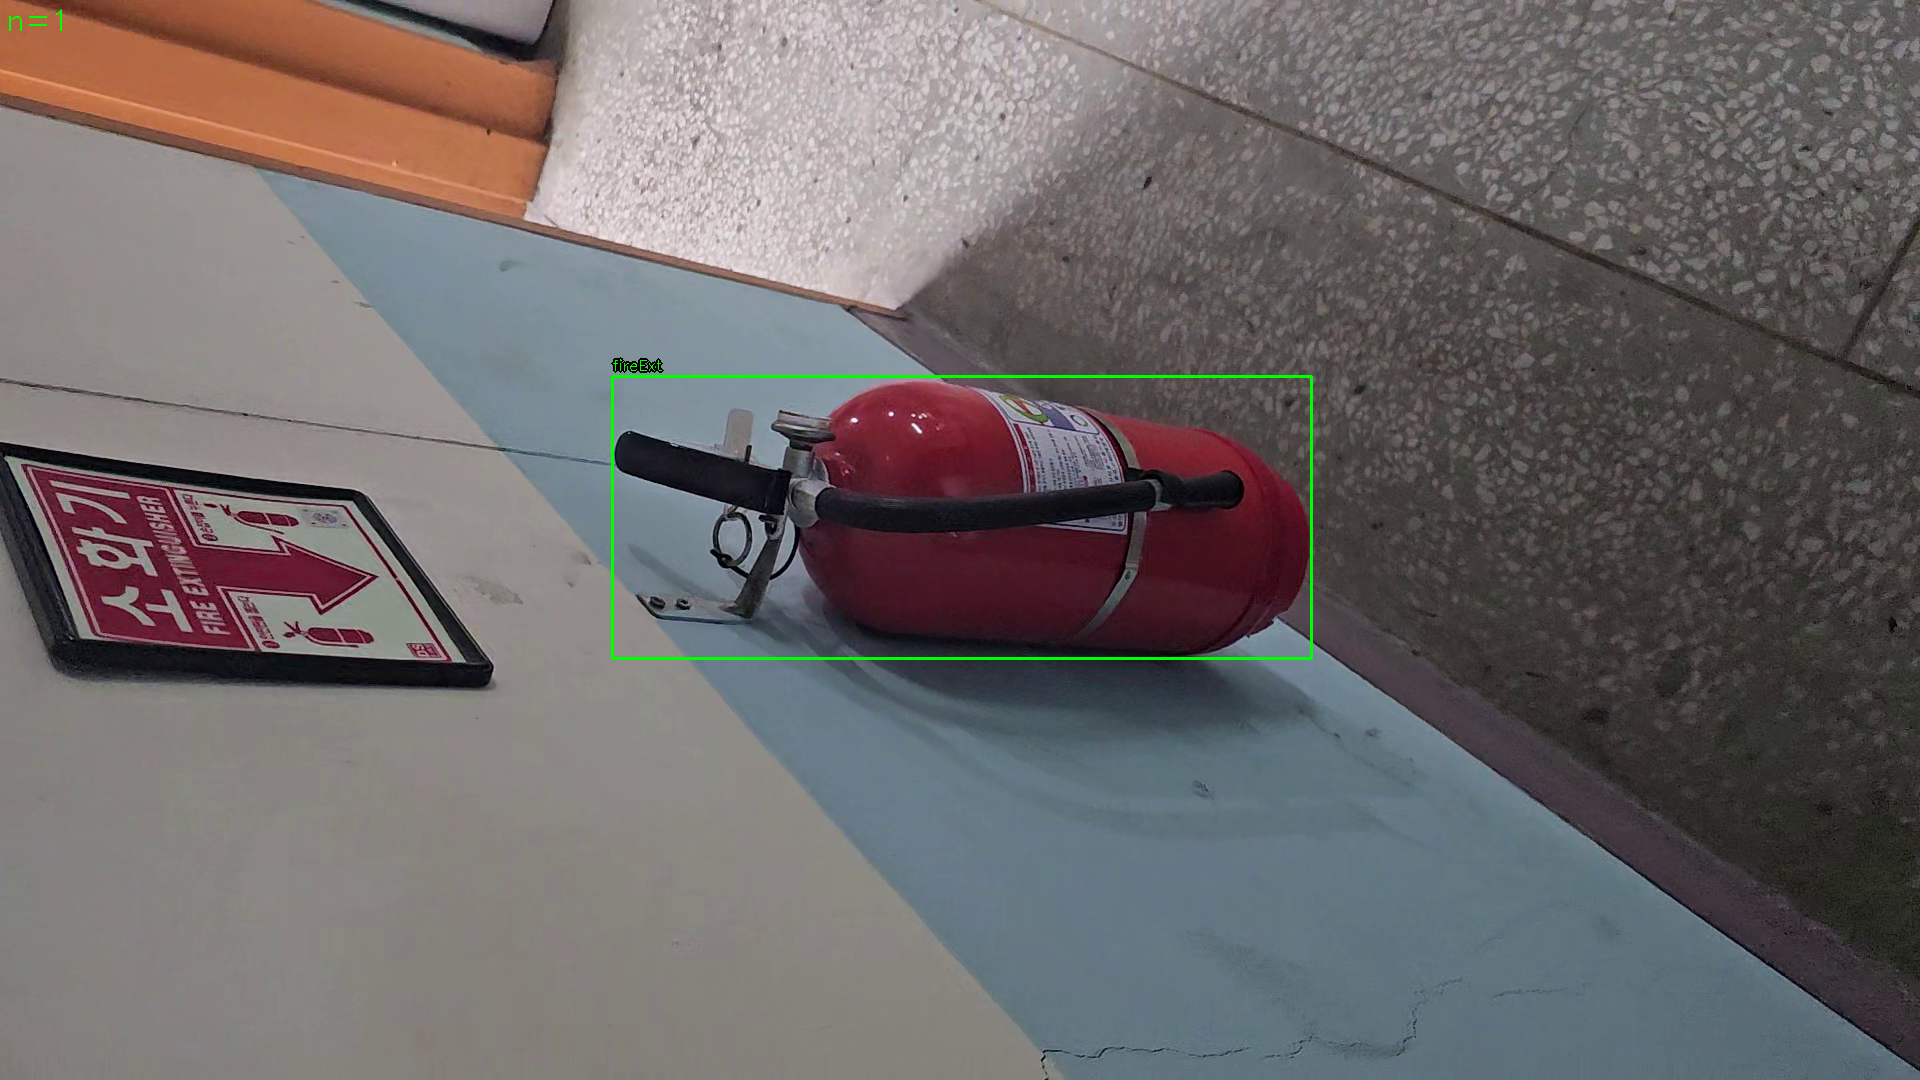lane: (612, 376, 1312, 659)
